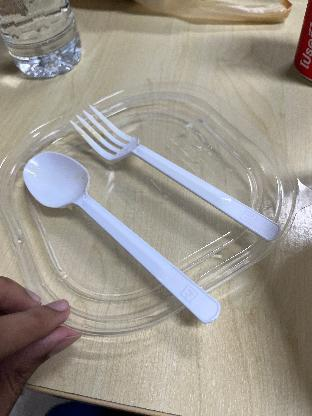Others: (16, 156, 221, 332), (72, 111, 288, 249)
